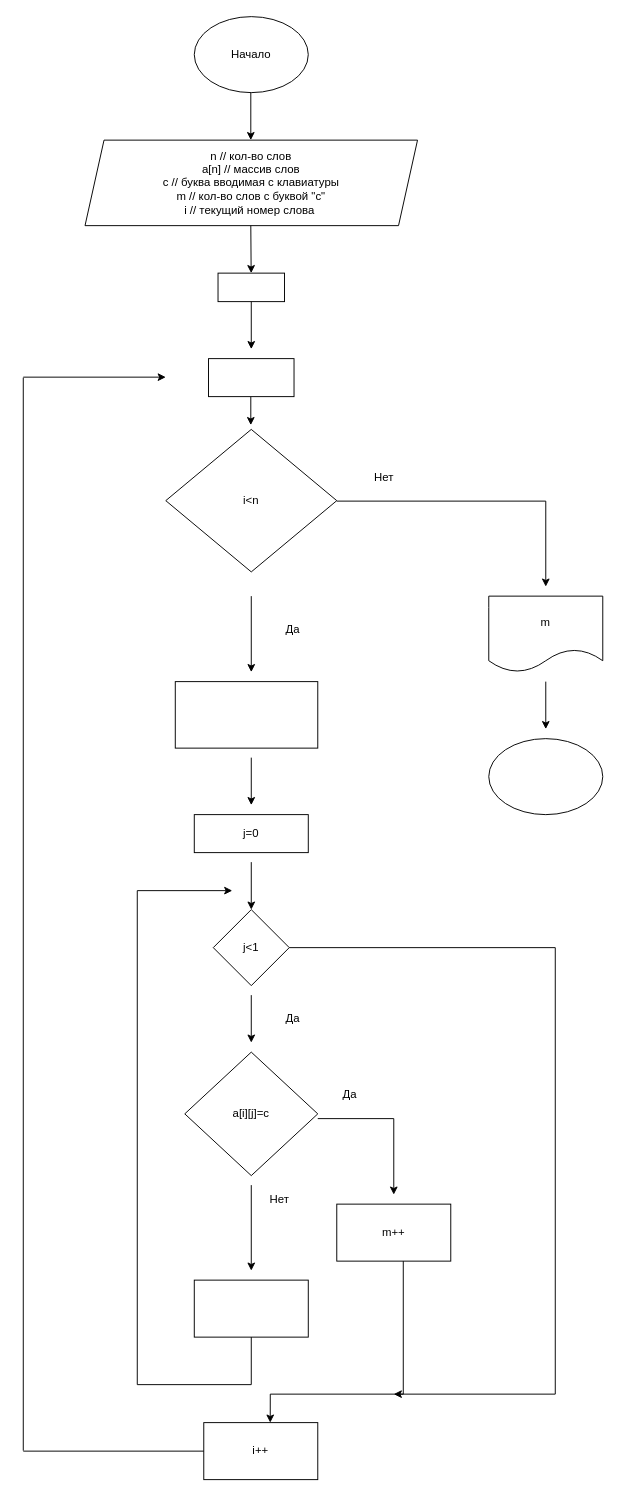
This 619x1496 diagram has some shape labels left out. The shapes that lost their labels are listed below. From the top down, each one's box as (x1, y1, x2, y2) in pixels, then its label:
(217, 272, 285, 302): m=0
(208, 358, 294, 397): i=0
(174, 681, 318, 748): l=strlen(a[i])
(488, 738, 603, 815): конец
(193, 1279, 308, 1337): j++
